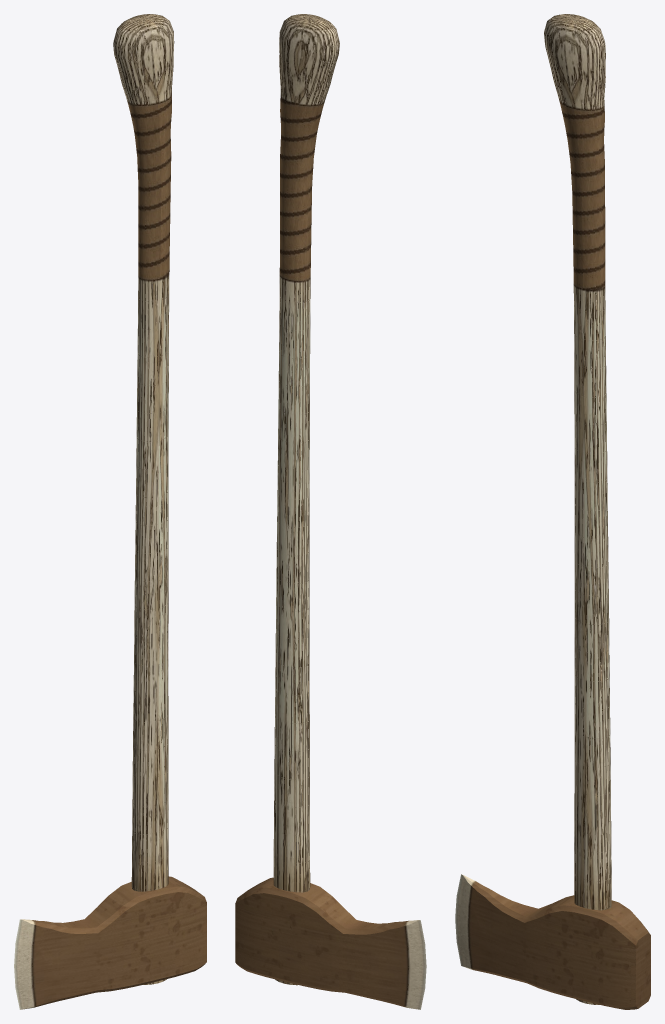
File: axe.gltf
The picture shows the model from 3 angles, left to right: view 1: azimuth 30°, elevation 25°; view 2: azimuth 150°, elevation 25°; view 3: azimuth 330°, elevation 25°; orthographic projection. The views are drawn at different scales.
Parts seen in each view (by area): view 1: Mesh; view 2: Mesh; view 3: Mesh.
Boxes of the visible parts, x1,y1,x2,y2 form: Mesh: (14,14,206,1009); Mesh: (235,14,426,1009); Mesh: (455,14,650,1009).
Size of the model in its own units: 0.221 by 1.1 by 0.0514.
Materials: 1 (1 with a texture image).
